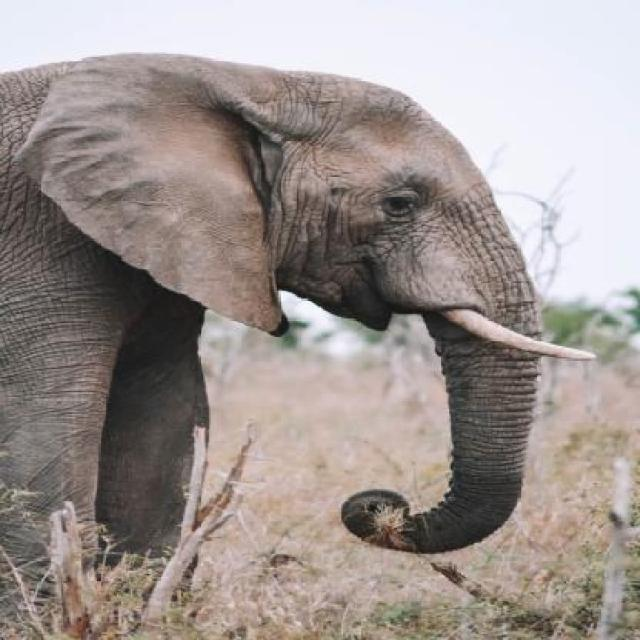Elephant: (0, 41, 623, 640)
